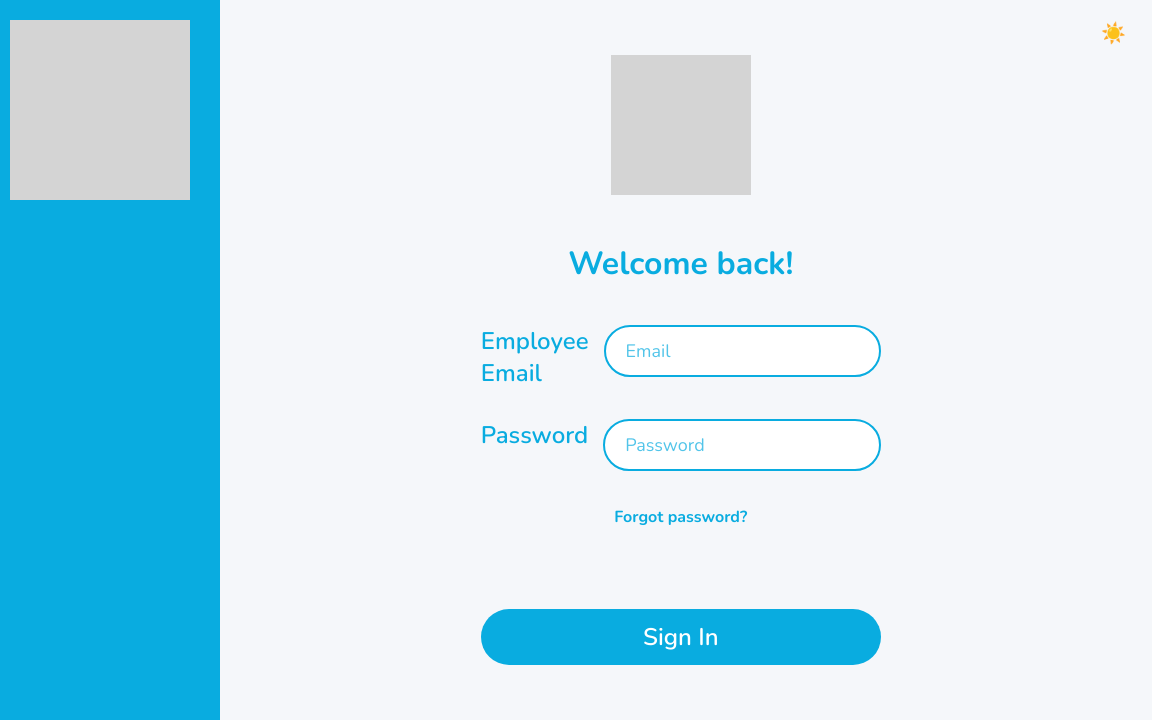
Login Component › toggles between login and forgot password form
Click the link "Forgot password?".
click(681, 517)  # box [614, 506, 747, 528]
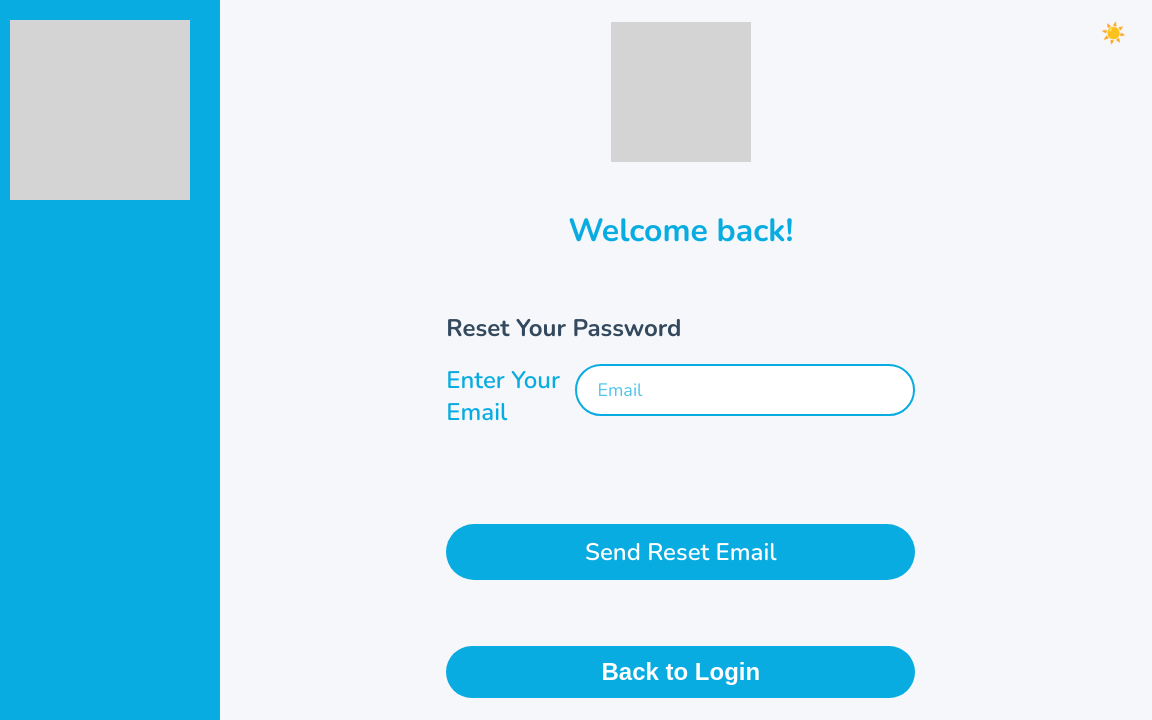
Expected: the heading "Reset Your Password" is shown, [446, 312, 682, 344]
Click the button "Back to Login".
click(681, 672)  # box [446, 646, 915, 698]
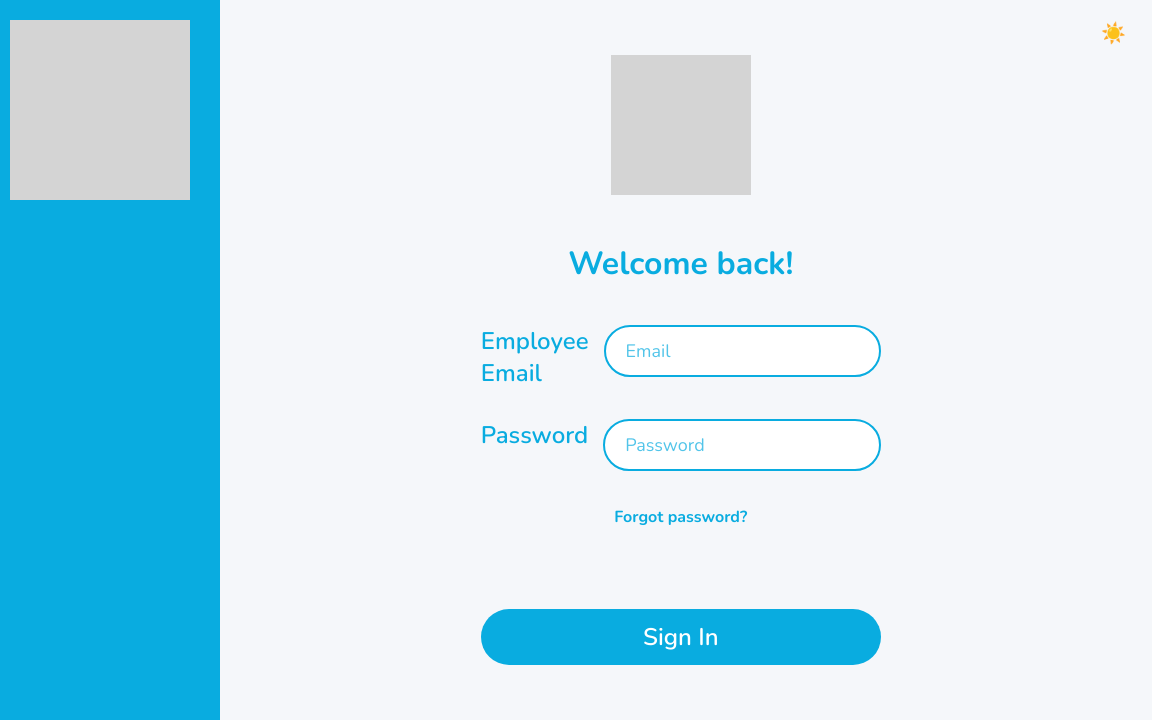
Expected: the button "Sign In" is shown, [481, 609, 881, 665]
